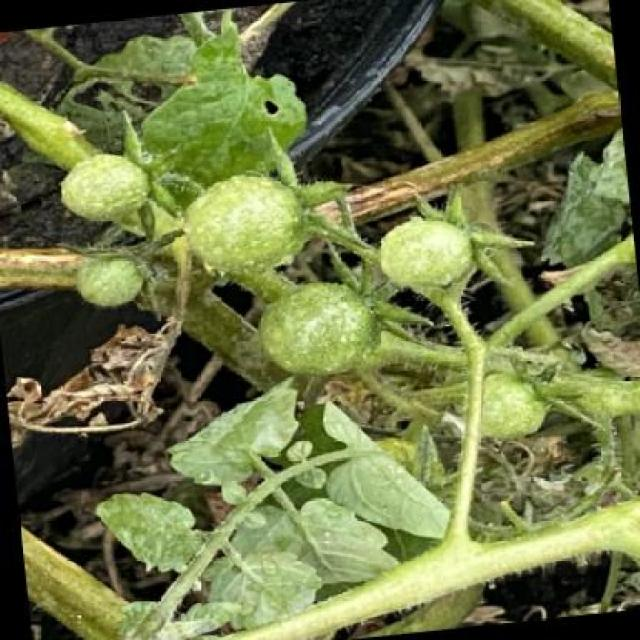unripe tomato: (251, 275, 386, 383), (184, 167, 310, 275), (370, 211, 476, 292), (453, 363, 549, 446), (55, 148, 151, 223), (75, 247, 148, 304)
